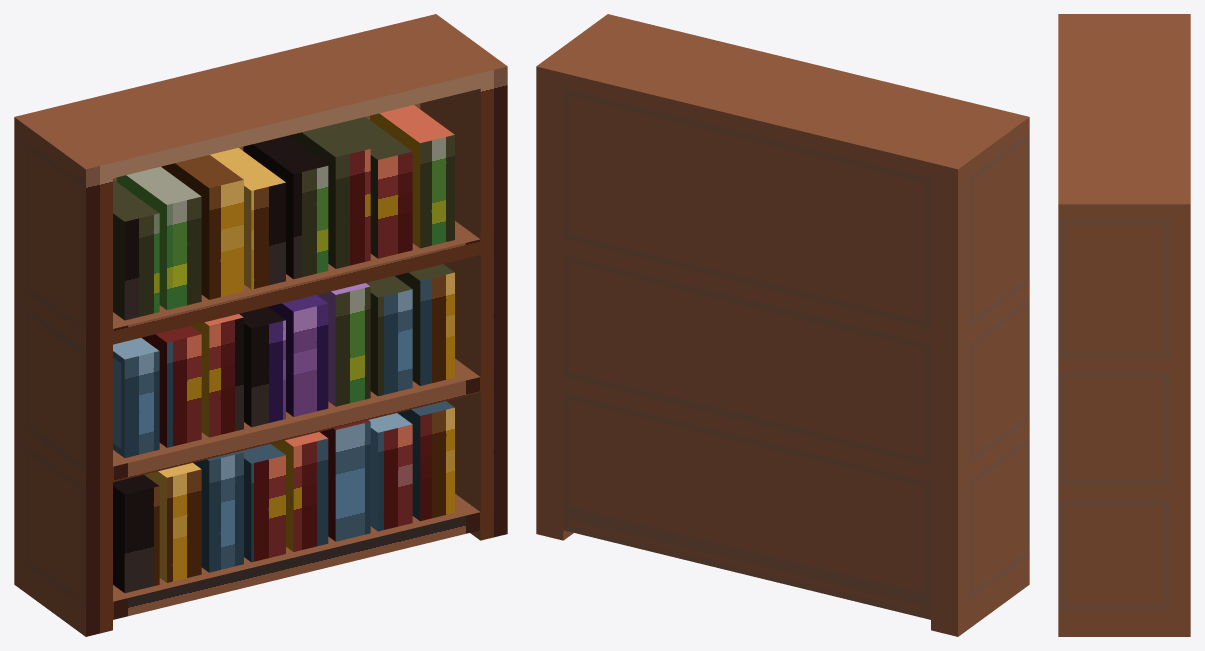
Rendered from bookcase.glb.
3 views of the same model, side by side, from view 1: azimuth 30°, elevation 25°; view 2: azimuth 150°, elevation 25°; view 3: azimuth 270°, elevation 25° (orthographic). The views are drawn at different scales.
Parts seen in each view (by area): view 1: Cabinet, Books_Row_3, Books_Row_2, Books_Row_1; view 2: Cabinet; view 3: Cabinet.
Boxes of the visible parts, box(x1,y1,x2,y2) form: Cabinet: box(14, 14, 507, 636); Books_Row_3: box(113, 105, 454, 320); Books_Row_2: box(113, 264, 454, 457); Books_Row_1: box(113, 401, 454, 592); Cabinet: box(536, 14, 1029, 636); Cabinet: box(1058, 14, 1190, 636).
Bounding box in the file's own units: 1.7 × 1.8 × 0.5.
1 material, 1 textured.
